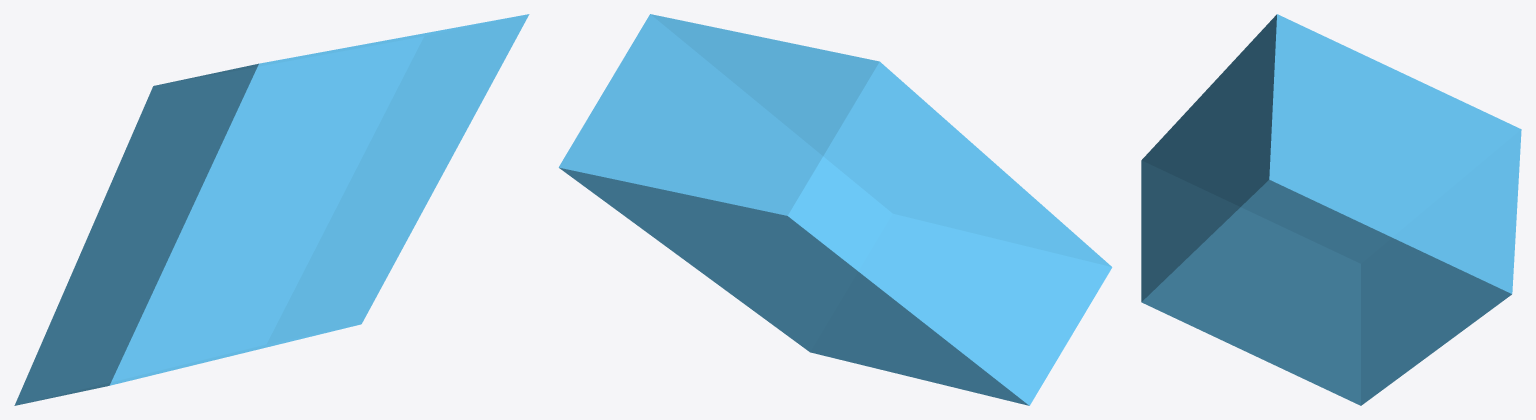
The model's file is Event_421556567_HBrechit_23.fbx.
The picture shows the model from 3 angles, left to right: view 1: azimuth 30°, elevation 25°; view 2: azimuth 150°, elevation 25°; view 3: azimuth 270°, elevation 25°; orthographic projection. The views are drawn at different scales.
Visible parts, largest first — view 1: Model; view 2: Model; view 3: Model.
Part boxes in pixels (x1=…): Model: x1=14, y1=14, x2=529, y2=405; Model: x1=558, y1=14, x2=1112, y2=405; Model: x1=1141, y1=14, x2=1521, y2=405.
Bounding box in the file's own units: 1.03 × 0.6576 × 0.6168.
